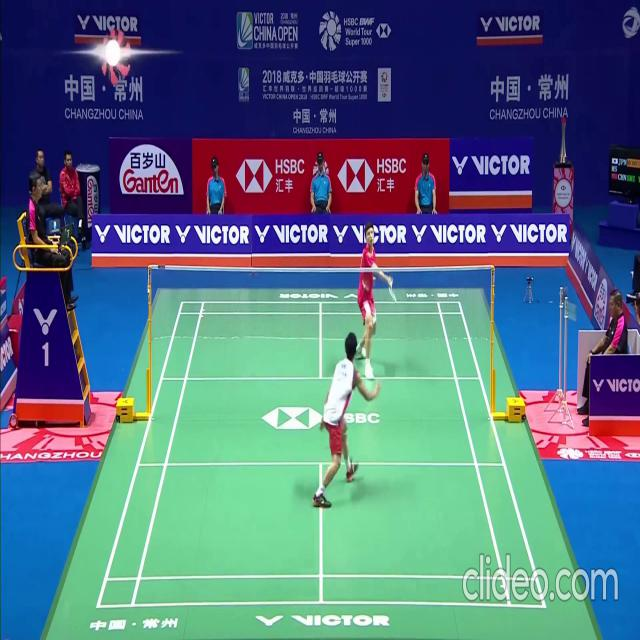Shuttlecock: (383, 225, 388, 232)
